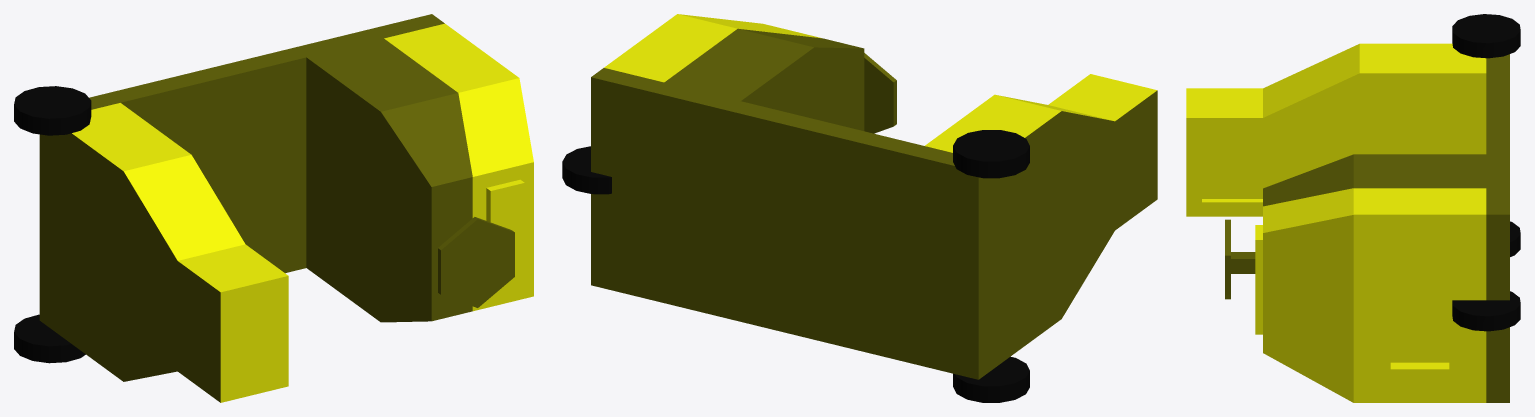
Rendered from standing_tow_tractor.dae.
3 renders of one model, left to right at view 1: azimuth 30°, elevation 25°; view 2: azimuth 150°, elevation 25°; view 3: azimuth 270°, elevation 25°, orthographic. The views are drawn at different scales.
Parts seen in each view (by area): view 1: instance_0_003, instance_0_002, instance_0_004, instance_0_007, instance_0_005, instance_0_008, instance_0_009; view 2: instance_0_003, instance_0_002, instance_0_004, instance_0_005, instance_0_009, instance_0_007, instance_0; view 3: instance_0_004, instance_0_001, instance_0_002, instance_0_003, instance_0_006, instance_0_005, instance_0, instance_0_008, instance_0_007, instance_0_009.
Part boxes in pixels (x1,y1,x2,y2): instance_0_003: (39, 14, 472, 402); instance_0_002: (72, 103, 288, 402); instance_0_004: (384, 23, 533, 311); instance_0_007: (438, 217, 514, 307); instance_0_005: (14, 86, 91, 135); instance_0_008: (486, 179, 524, 296); instance_0_009: (14, 314, 85, 363); instance_0_003: (591, 28, 1157, 379); instance_0_002: (925, 74, 1156, 152); instance_0_004: (604, 14, 821, 82); instance_0_005: (953, 130, 1029, 178); instance_0_009: (953, 356, 1029, 402); instance_0_007: (864, 53, 896, 133); instance_0: (562, 146, 611, 194); instance_0_004: (1263, 188, 1486, 402); instance_0_001: (1202, 87, 1470, 202); instance_0_002: (1186, 43, 1486, 216); instance_0_003: (1231, 54, 1509, 402); instance_0_006: (1390, 248, 1449, 369); instance_0_005: (1452, 14, 1520, 58); instance_0: (1452, 291, 1520, 331); instance_0_008: (1255, 225, 1262, 334); instance_0_007: (1225, 219, 1230, 299); instance_0_009: (1510, 221, 1520, 256).
Size of the model in its own units: 724 by 365 by 508.
